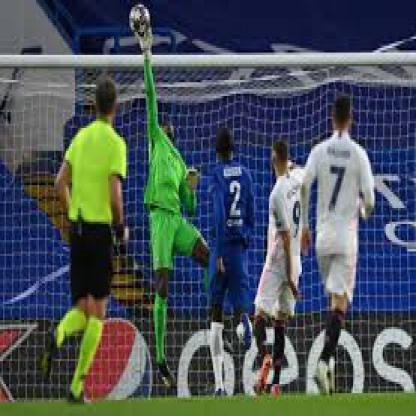goal: (118, 1, 213, 250)
